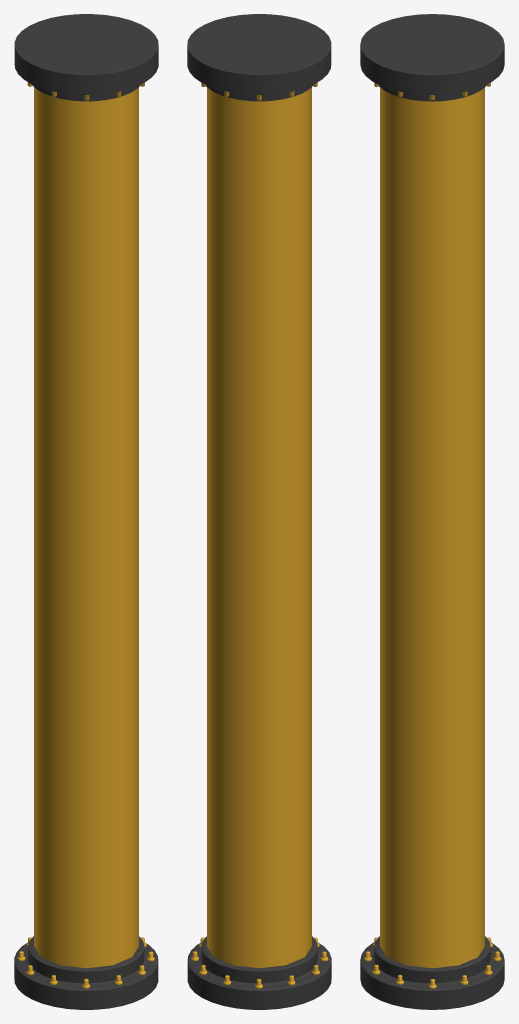
File: Pipe1mSmall.fbx
3 renders of one model, left to right at view 1: azimuth 30°, elevation 25°; view 2: azimuth 150°, elevation 25°; view 3: azimuth 270°, elevation 25°, orthographic.
Parts seen in each view (by area): view 1: PipeOut1, GiunzioneOut1_2, GiunzioneOut1_1; view 2: PipeOut1, GiunzioneOut1_2, GiunzioneOut1_1; view 3: PipeOut1, GiunzioneOut1_2, GiunzioneOut1_1.
Part boxes in pixels (<box>): PipeOut1: <box>34,87,138,968</box>; GiunzioneOut1_2: <box>14,14,158,101</box>; GiunzioneOut1_1: <box>14,936,158,1009</box>; PipeOut1: <box>207,87,311,968</box>; GiunzioneOut1_2: <box>187,14,331,101</box>; GiunzioneOut1_1: <box>187,936,331,1009</box>; PipeOut1: <box>380,87,484,968</box>; GiunzioneOut1_2: <box>360,14,504,101</box>; GiunzioneOut1_1: <box>360,936,504,1009</box>.
Bounding box in the file's own units: 14 × 99.94 × 13.98.
